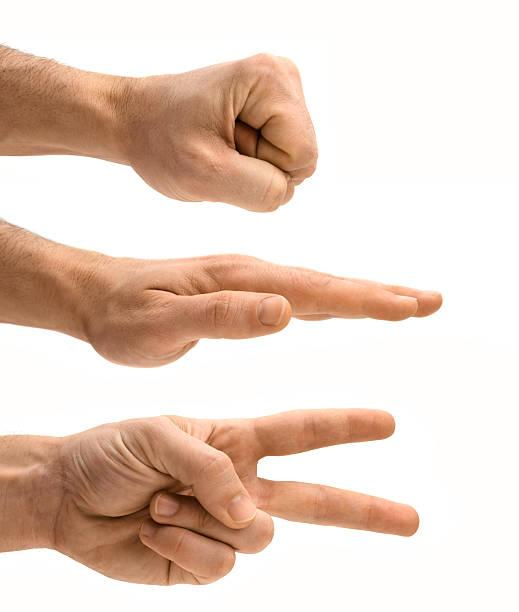paper: (75, 238, 466, 375)
rock: (101, 27, 325, 223)
scissors: (42, 393, 443, 603)
